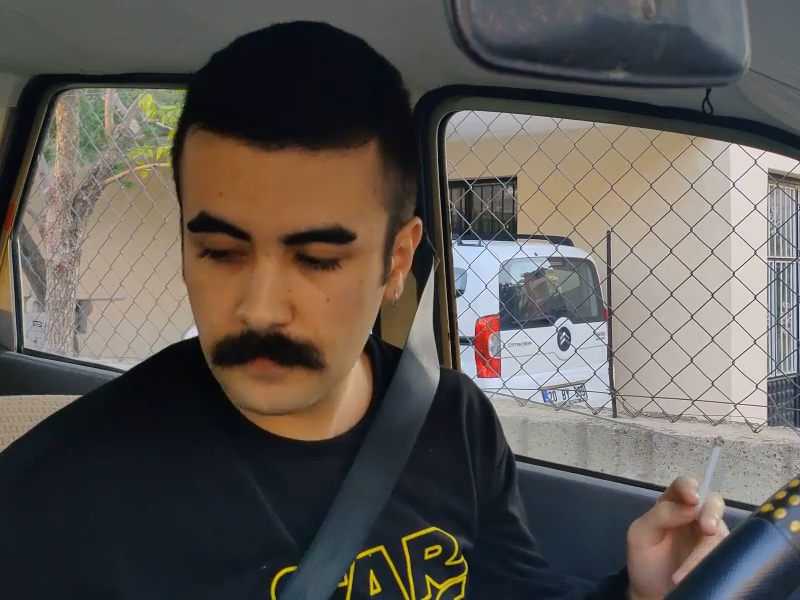sigara: (688, 429, 733, 524)
